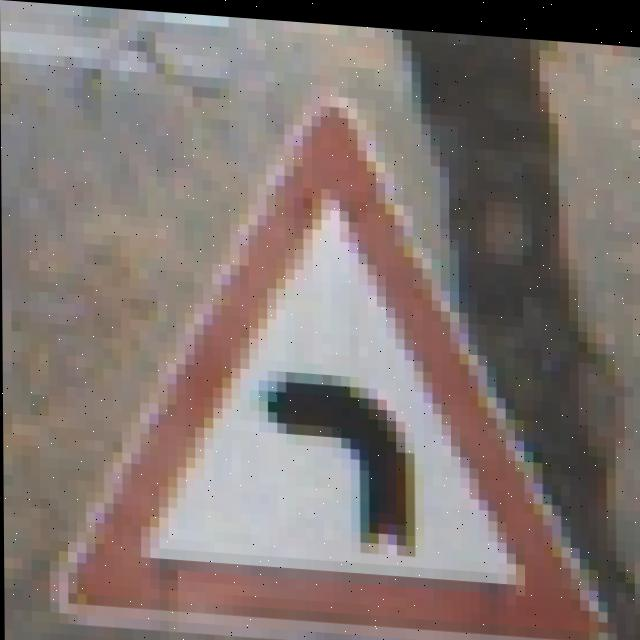left_turn: (98, 190, 606, 640)
